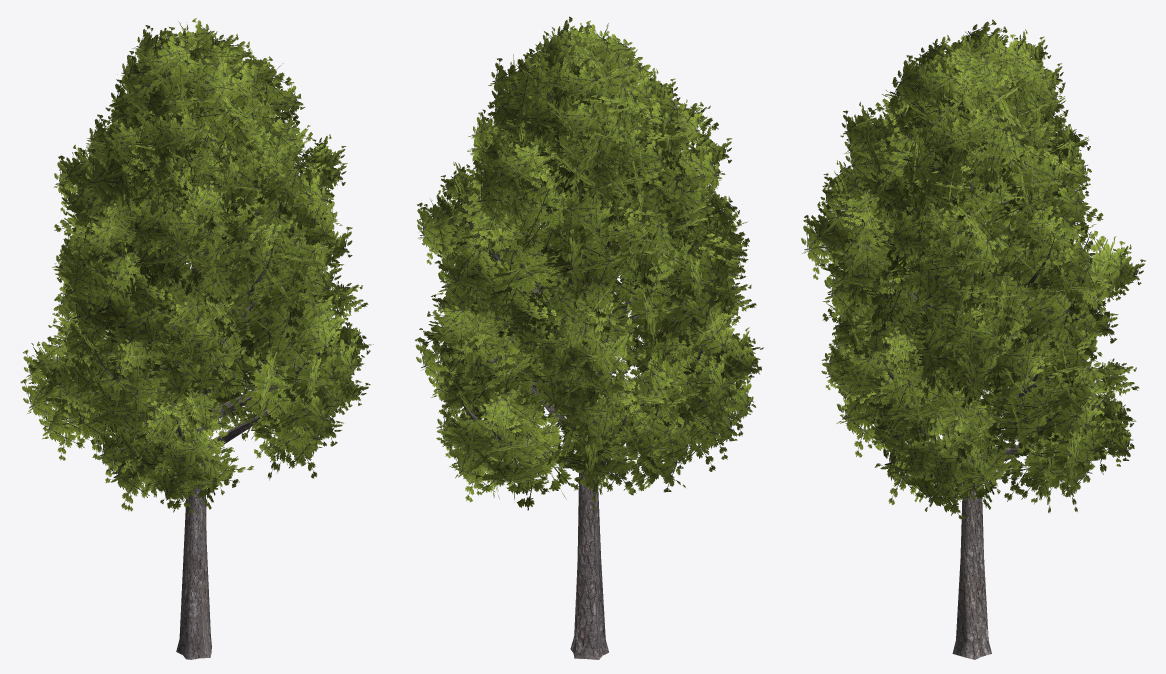
Rendered from tr_oak.glb.
3 renders of one model, left to right at view 1: azimuth 30°, elevation 25°; view 2: azimuth 150°, elevation 25°; view 3: azimuth 270°, elevation 25°, orthographic.
Visible parts, largest first — view 1: body|leaves, body|bark; view 2: body|leaves, body|bark; view 3: body|leaves, body|bark.
Part boxes in pixels (x1=…): body|leaves: x1=20, y1=18, x2=373, y2=513; body|bark: x1=58, y1=148, x2=320, y2=659; body|leaves: x1=415, y1=16, x2=763, y2=510; body|bark: x1=459, y1=161, x2=728, y2=659; body|leaves: x1=801, y1=19, x2=1145, y2=520; body|bark: x1=843, y1=163, x2=1107, y2=659.
Bounding box in the file's own units: 5.51 × 10.36 × 5.34.
2 materials, 2 textured.
